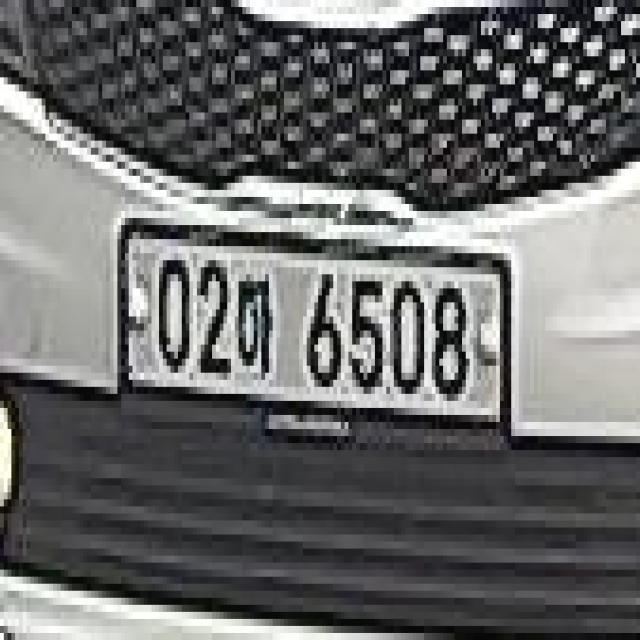illegal_plate: (114, 211, 518, 463)
